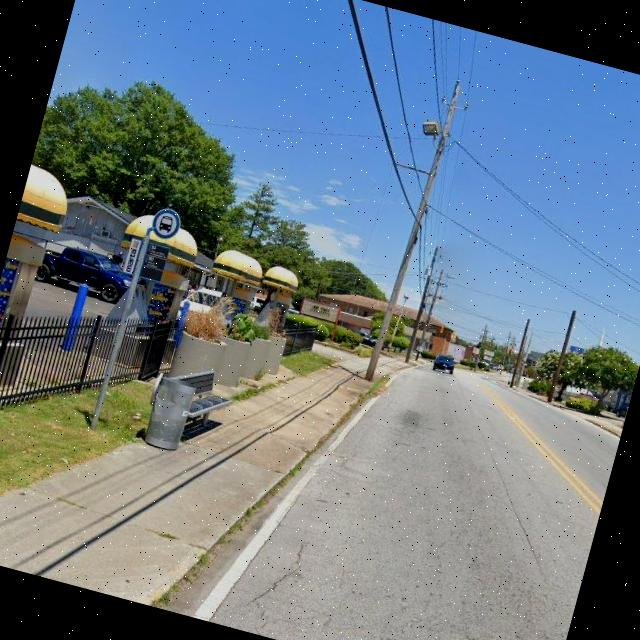seating: (138, 355, 238, 462)
trash_can: (138, 362, 202, 454)
